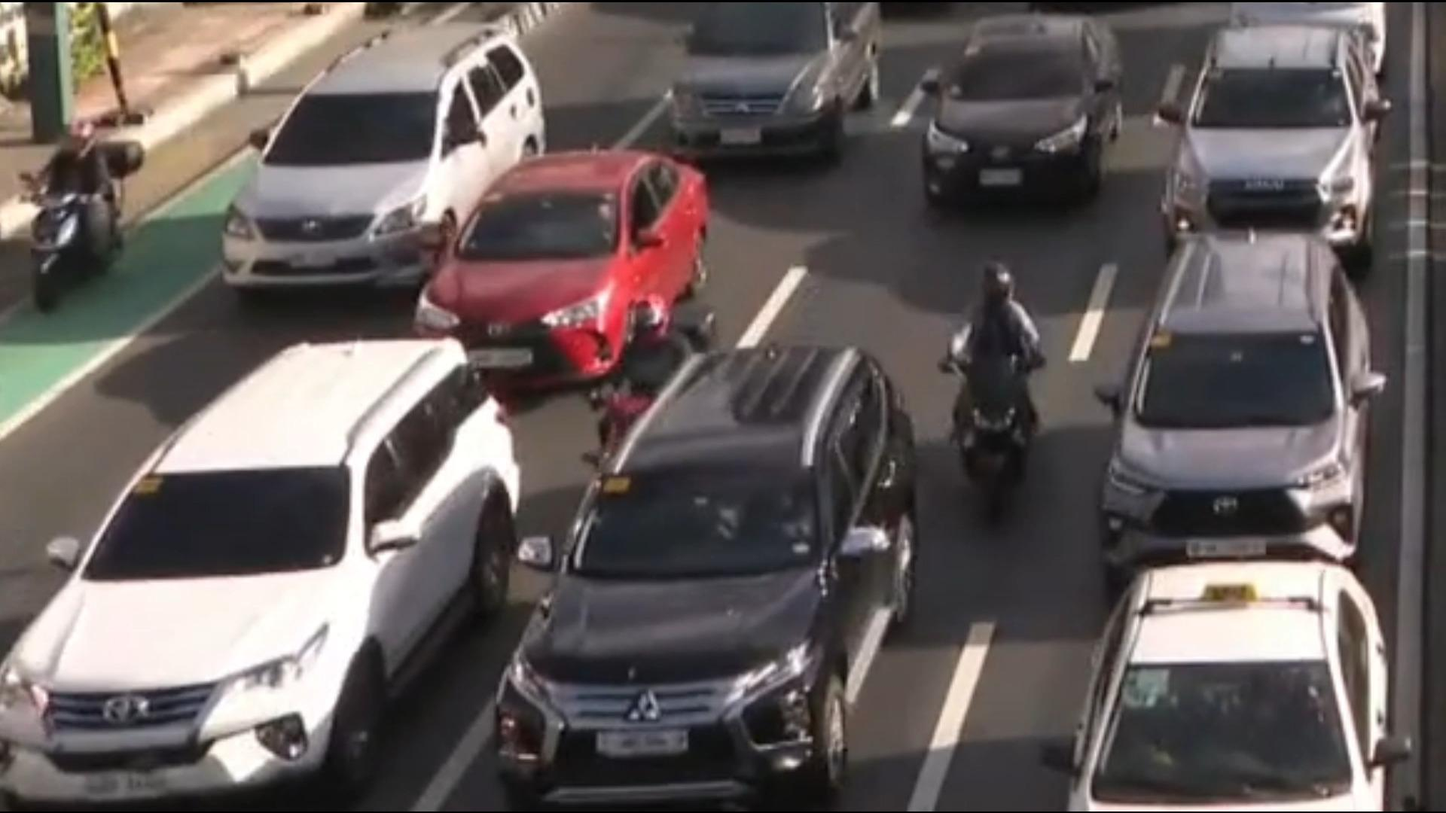Motorcycle: (903, 232, 1083, 523), (0, 100, 174, 319), (573, 264, 735, 447)
SUV: (0, 318, 539, 813), (468, 330, 955, 813), (1073, 235, 1424, 584), (200, 6, 556, 303), (1150, 19, 1397, 252), (667, 0, 900, 164)
Sedan: (372, 126, 765, 383), (1074, 552, 1417, 813), (900, 6, 1134, 232)
